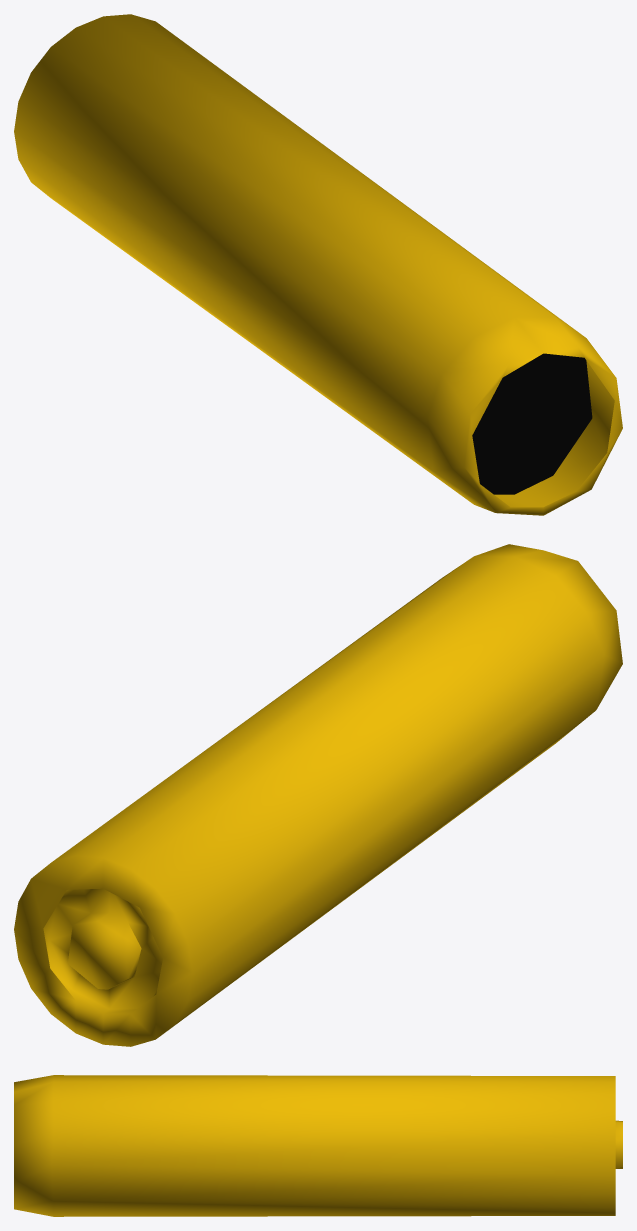
Rendered from casing120mm.fbx.
3 renders of one model, top to bottom at view 1: azimuth 30°, elevation 25°; view 2: azimuth 150°, elevation 25°; view 3: azimuth 270°, elevation 25°, orthographic. The views are drawn at different scales.
Visible parts, largest first — view 1: Cylinder.002; view 2: Cylinder.002; view 3: Cylinder.002.
Boxes of the visible parts, box(x1,y1,x2,y2) form: Cylinder.002: box(14, 14, 622, 515); Cylinder.002: box(14, 544, 622, 1046); Cylinder.002: box(14, 1075, 622, 1216).
Size of the model in its own units: 0.1581 by 0.1581 by 0.6832.
